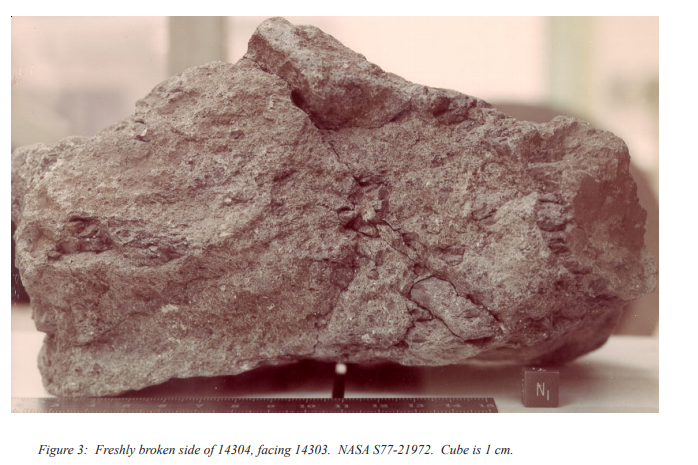Breccia: (2, 19, 655, 413), (221, 130, 552, 325)
